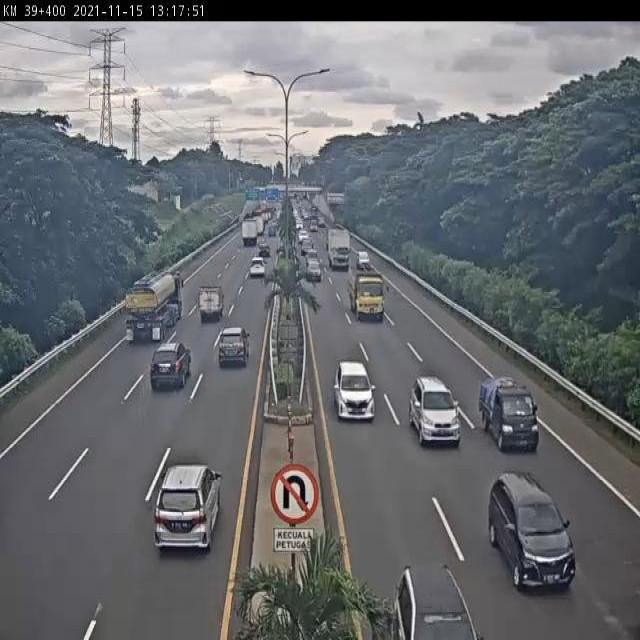car: (490, 468, 576, 593), (154, 464, 222, 553), (410, 378, 461, 446), (333, 360, 376, 423), (152, 343, 192, 389), (218, 328, 251, 368), (250, 256, 267, 277)
truck-m-: (348, 266, 389, 318)
truck-s-: (480, 374, 539, 454), (199, 285, 225, 323)
truck-xl-: (125, 267, 183, 345)
